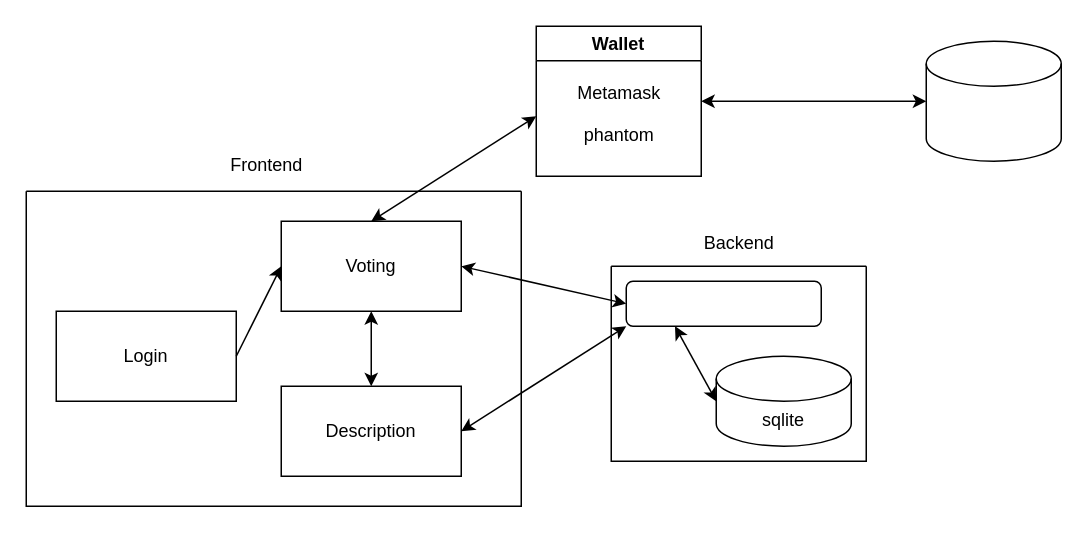
Image size: 1088x533. Some labels were removed from this diagram. The centre of each missing label's shape, as x and y in pixels:
"API" belongs at (x=723, y=303).
"Smartcontract" belongs at (x=993, y=100).
